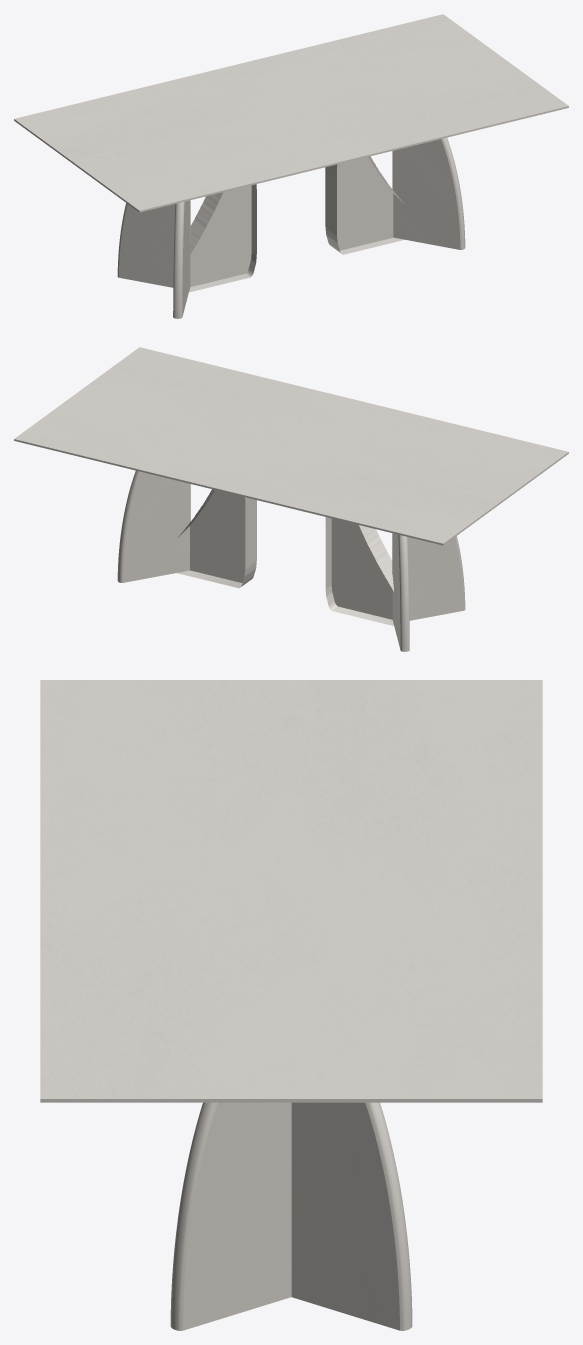
File: pearlwhite_recta_facet_plane.glb
The picture shows the model from 3 angles, top to bottom: view 1: azimuth 30°, elevation 25°; view 2: azimuth 150°, elevation 25°; view 3: azimuth 270°, elevation 25°; orthographic projection. The views are drawn at different scales.
Parts seen in each view (by area): view 1: facet_recta, plane_singleright2, plane_single1, plane_single2, plane_singleleft1, plane_singleright1; view 2: facet_recta, plane_singleleft2, plane_single1, plane_single2, plane_singleright1, plane_singleleft1; view 3: facet_recta, plane_singleleft2, plane_singleright2.
Boxes of the visible parts, <box> form: facet_recta: <box>14,14,568,212</box>; plane_singleright2: <box>392,137,465,249</box>; plane_single1: <box>189,184,256,292</box>; plane_single2: <box>325,156,404,254</box>; plane_singleleft1: <box>117,200,190,287</box>; plane_singleright1: <box>173,200,190,318</box>; facet_recta: <box>14,347,568,545</box>; plane_singleleft2: <box>117,470,190,582</box>; plane_single1: <box>325,517,394,625</box>; plane_single2: <box>177,489,256,588</box>; plane_singleright1: <box>392,533,465,620</box>; plane_singleleft1: <box>392,533,409,651</box>; facet_recta: <box>40,680,542,1102</box>; plane_singleleft2: <box>291,1102,412,1330</box>; plane_singleright2: <box>170,1102,291,1330</box>.
Size of the model in its own units: 7.5 by 2.5 by 3.8.
1 material, 1 textured.
